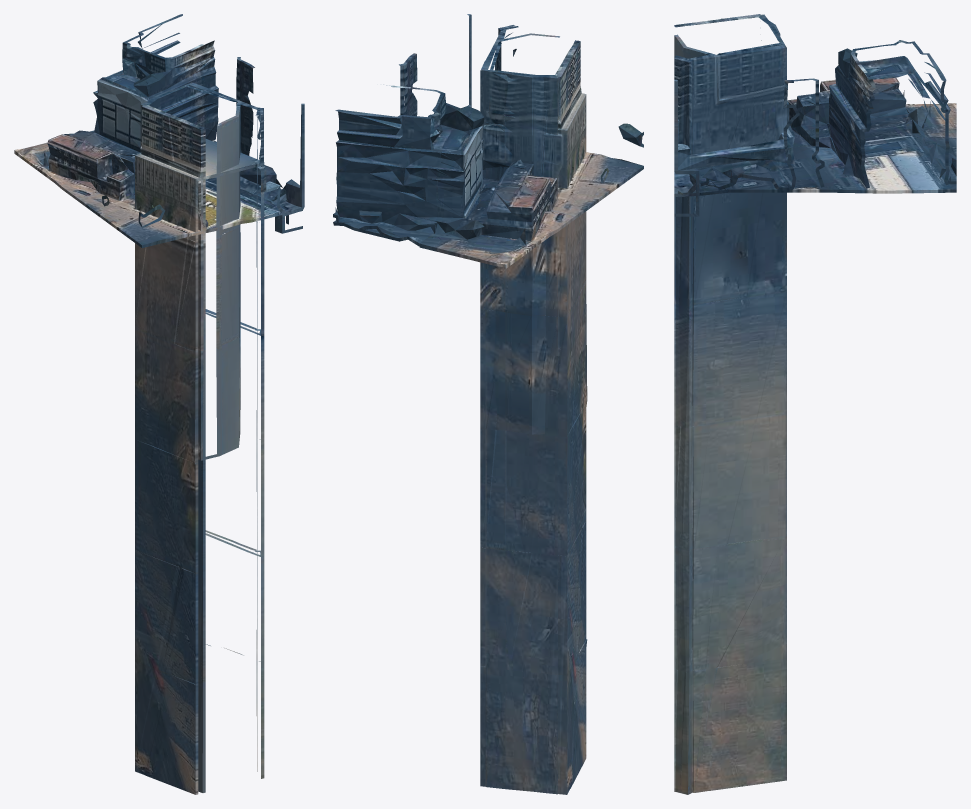
Rendered from chunk_8_-1.glb.
3 renders of one model, left to right at view 1: azimuth 30°, elevation 25°; view 2: azimuth 150°, elevation 25°; view 3: azimuth 270°, elevation 25°, orthographic. The views are drawn at different scales.
Parts seen in each view (by area): view 1: hero-chunk; view 2: hero-chunk; view 3: hero-chunk.
Boxes of the visible parts, x1,y1,x2,y2 form: hero-chunk: [14, 14, 304, 794]; hero-chunk: [333, 14, 643, 794]; hero-chunk: [674, 14, 956, 794].
Size of the model in its own units: 56.96 by 219 by 76.33.
6 materials, 6 textured.
